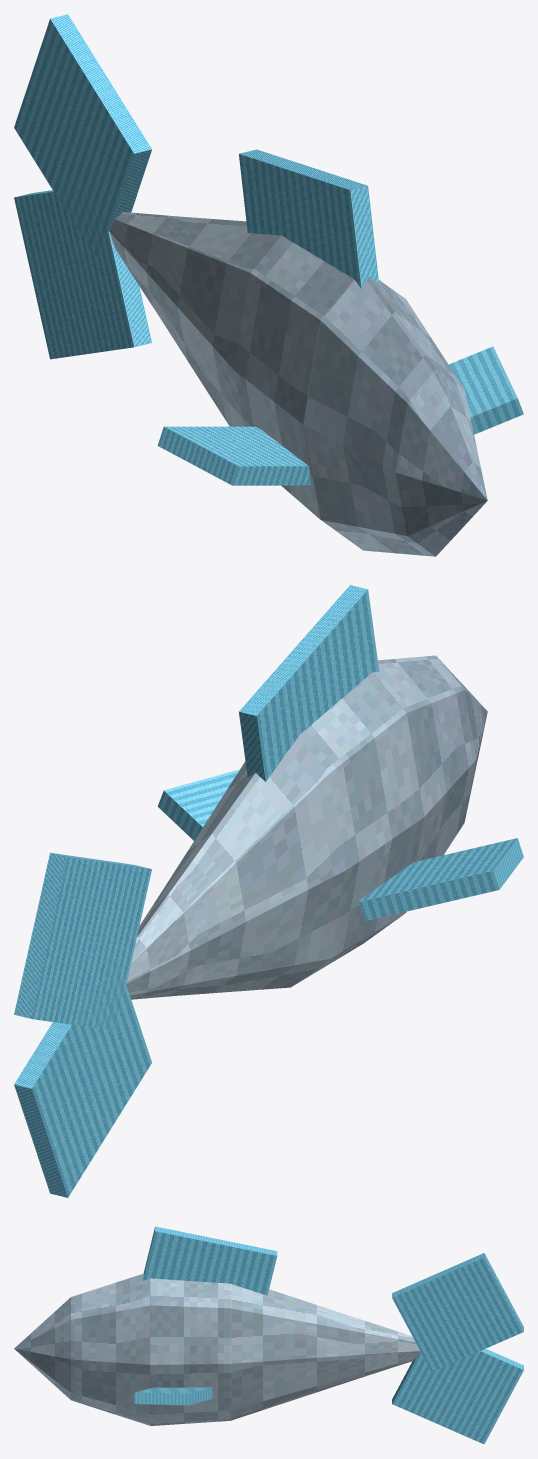
File: peixe_cru.glb
3 views of the same model, one above another, from view 1: azimuth 30°, elevation 25°; view 2: azimuth 150°, elevation 25°; view 3: azimuth 270°, elevation 25° (orthographic). The views are drawn at different scales.
Visible parts, largest first — view 1: peixe_cru; view 2: peixe_cru; view 3: peixe_cru.
Boxes of the visible parts, x1,y1,x2,y2 form: peixe_cru: (14,14,523,556); peixe_cru: (14,585,523,1197); peixe_cru: (14,1226,523,1444).
Size of the model in its own units: 0.3422 by 0.3722 by 0.8063.
1 material, 1 textured.
